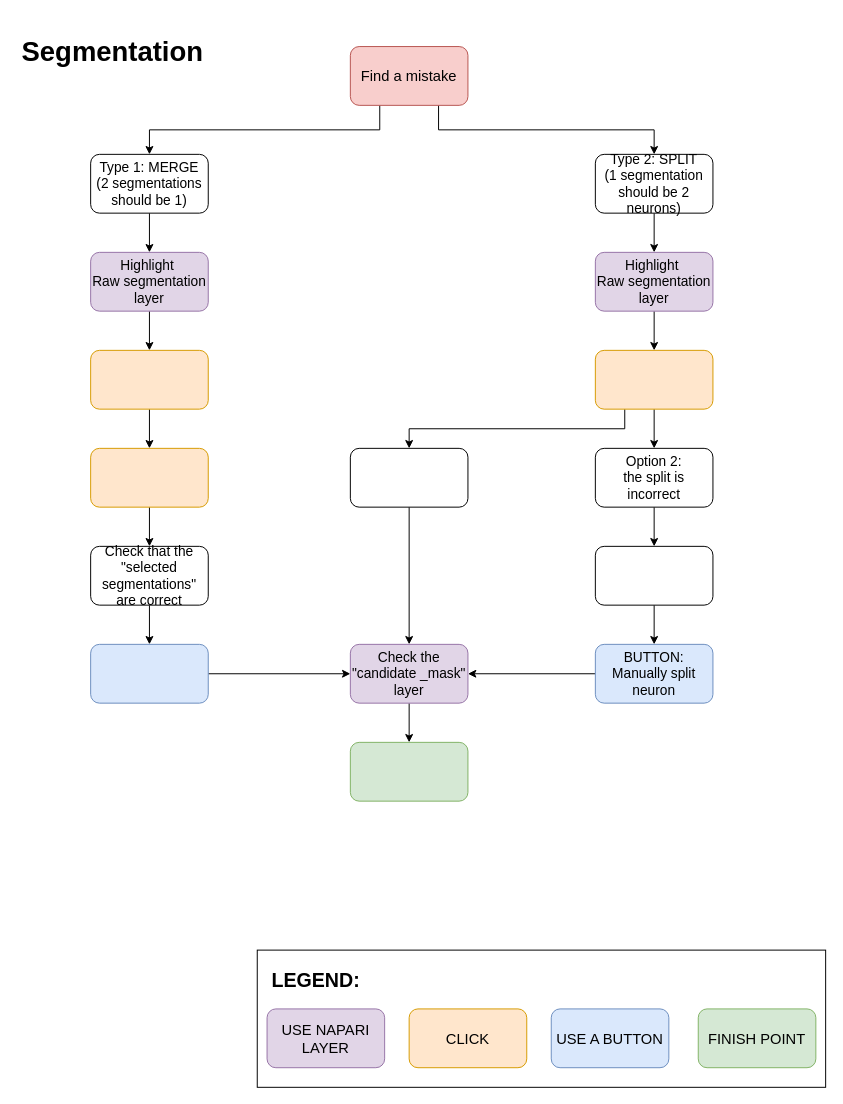
Image size: 843x1104. Some labels were removed from this diagram. Here are the shapes that lost their labels. From the top down, the centre of each, then its label:
point 149,379: CTRL-CLICK on first 1/2 neuron (Just select it)
point 653,379: ALT-CLICK on neuron (pop up)
point 149,477: CTRL-CLICK on second half (also select it)
point 408,477: Option 1: The split is correct
point 653,575: Manually set the split point
point 149,673: BUTTON: "Merge selected segmentations"
point 408,771: BUTTON: "Save candidate mask to RAM"
